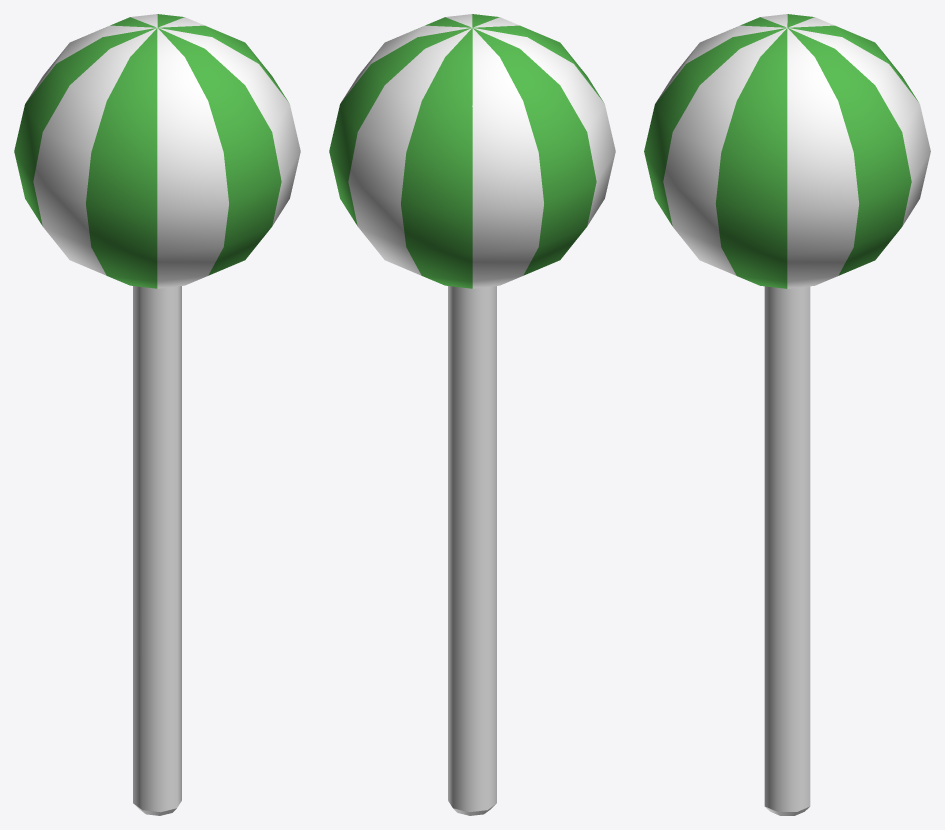
Rendered from Candy_25.fbx.
3 renders of one model, left to right at view 1: azimuth 30°, elevation 25°; view 2: azimuth 150°, elevation 25°; view 3: azimuth 270°, elevation 25°, orthographic.
Visible parts, largest first — view 1: Candy_25; view 2: Candy_25; view 3: Candy_25.
Part boxes in pixels (x1,y1,x2,y2): Candy_25: (14, 14, 300, 815); Candy_25: (329, 14, 615, 815); Candy_25: (644, 14, 930, 815).
Size of the model in its own units: 0.8726 by 2.62 by 0.8726.
